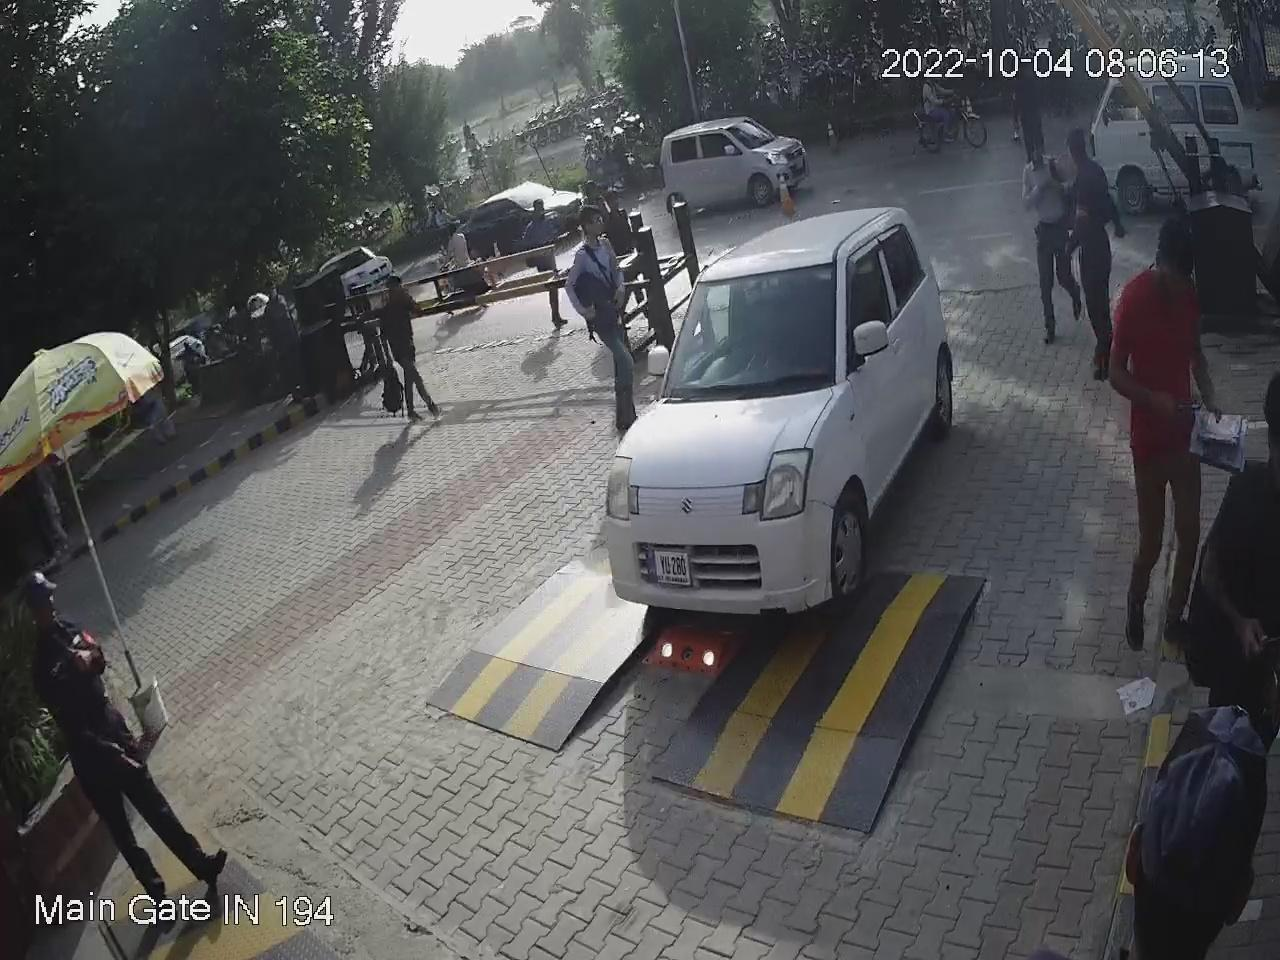windshield: (650, 250, 846, 407)
